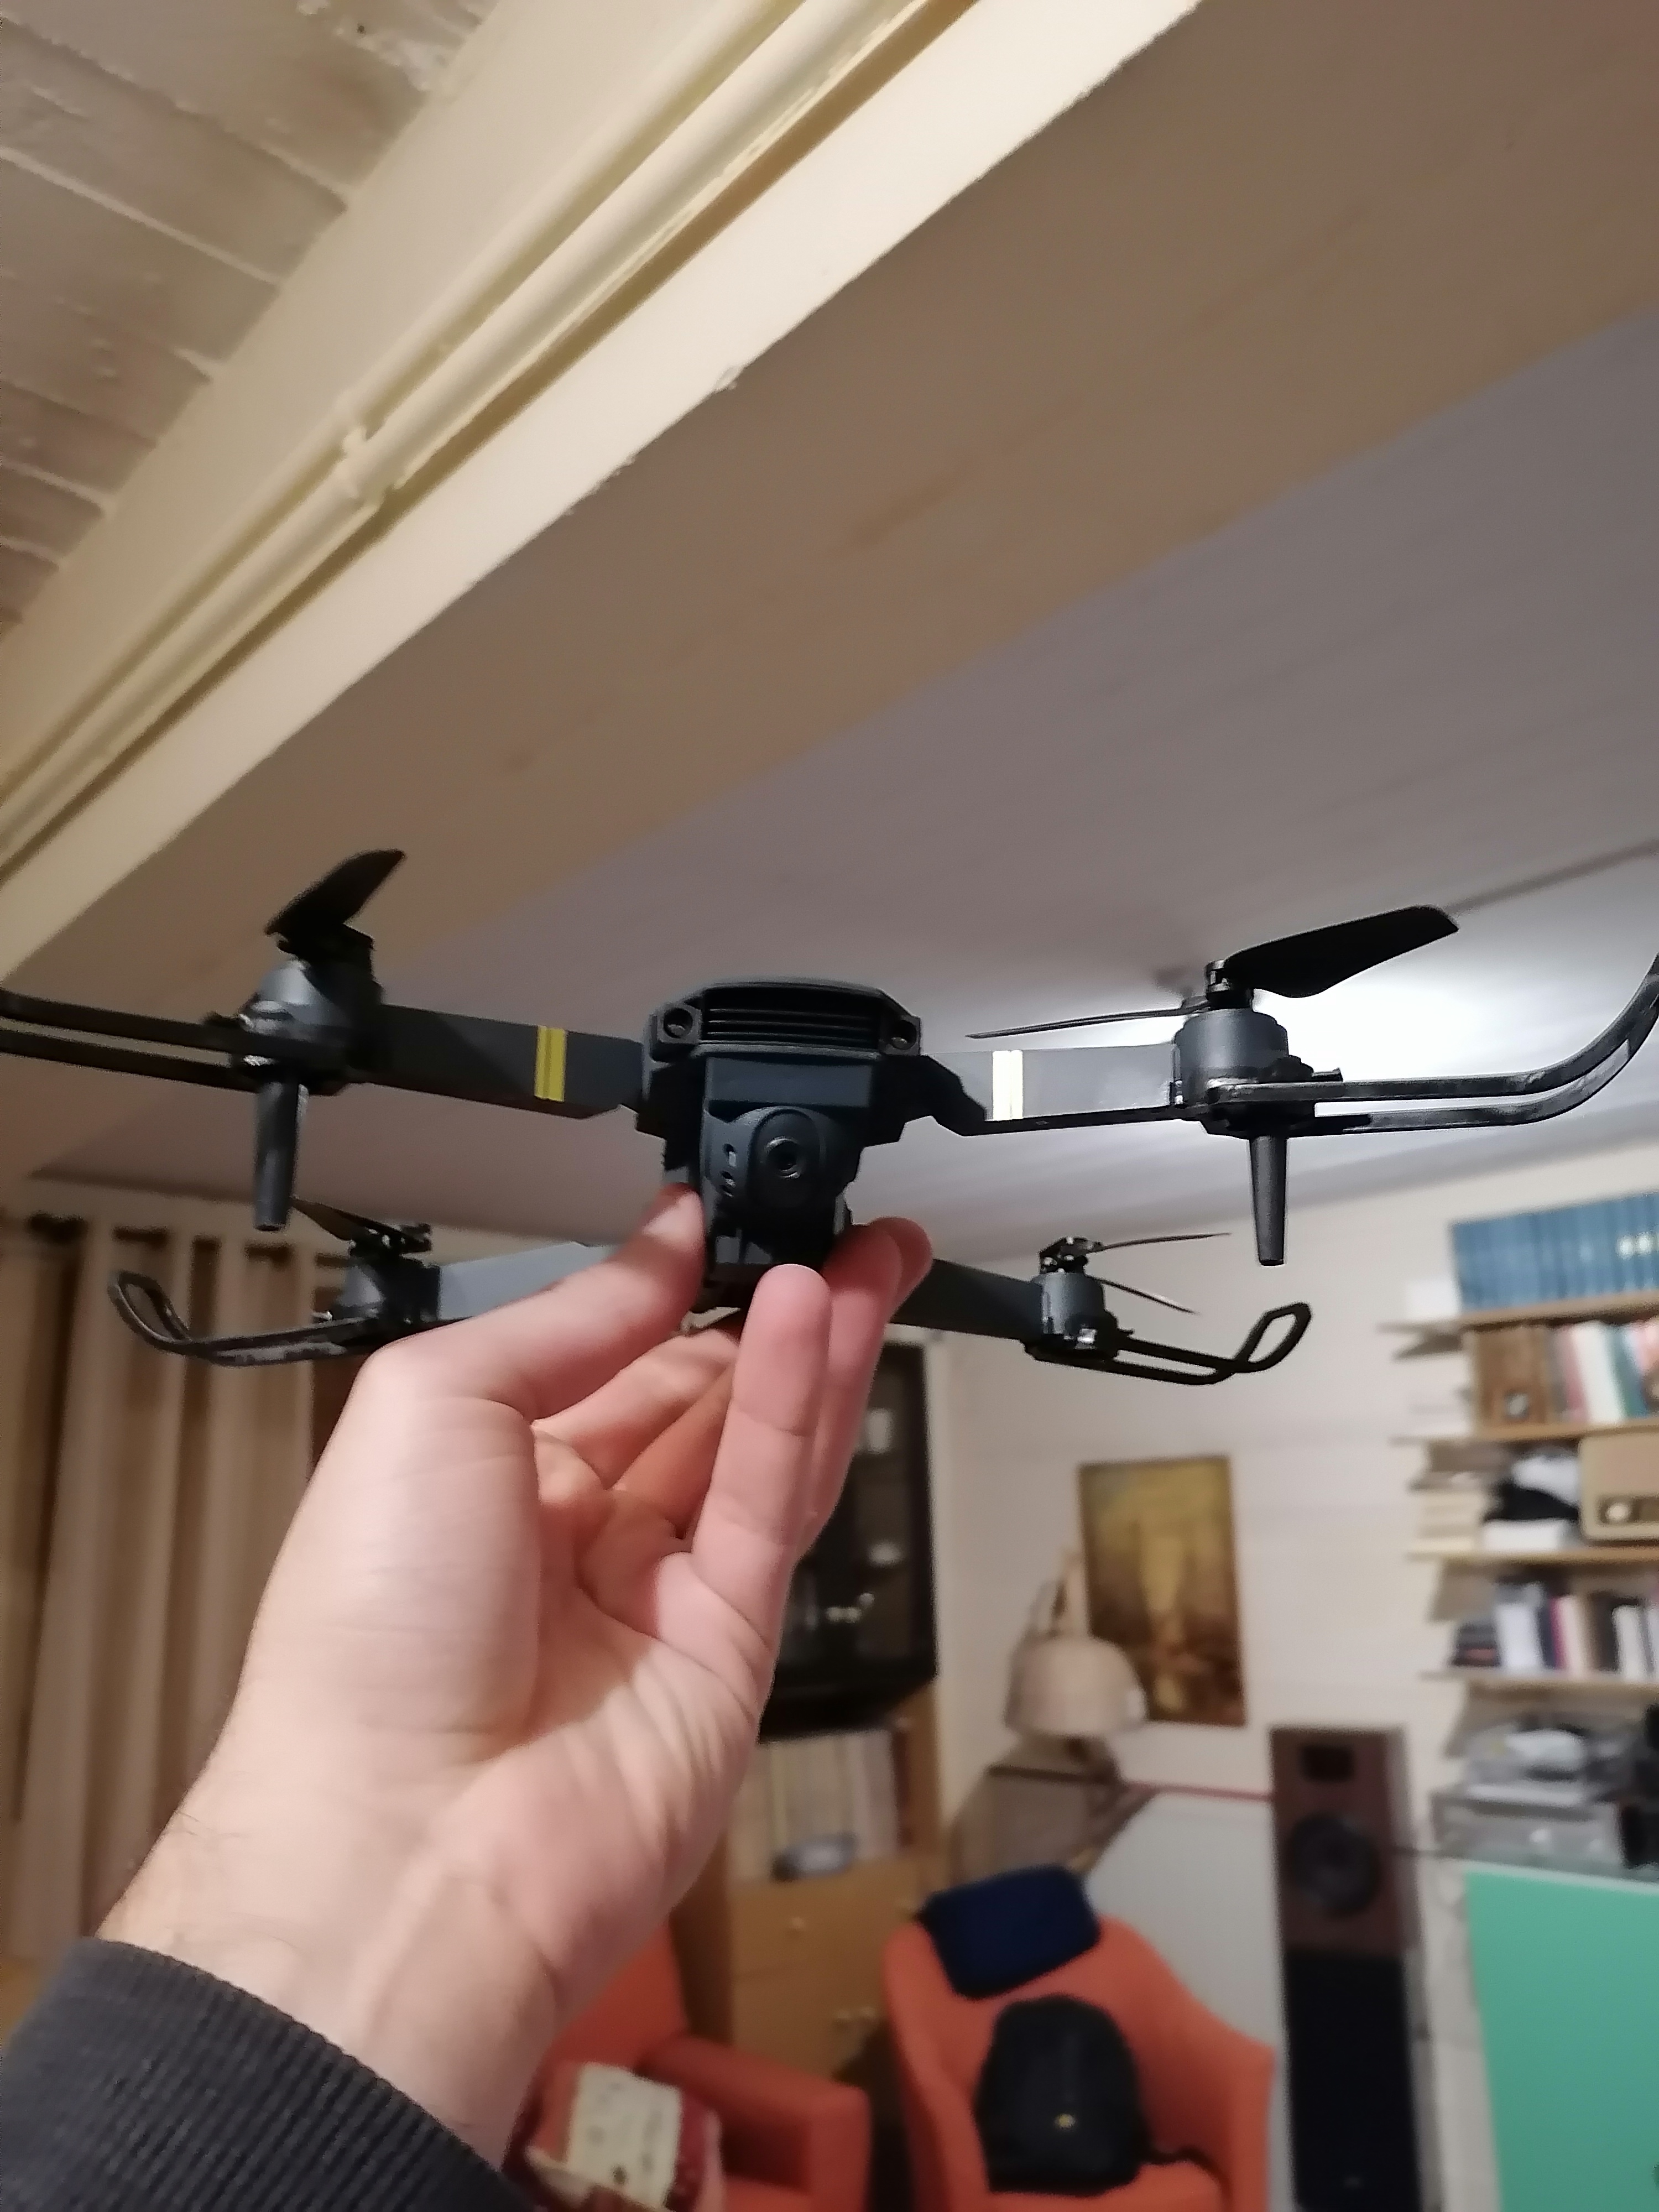drone: (2, 819, 1659, 1426)
